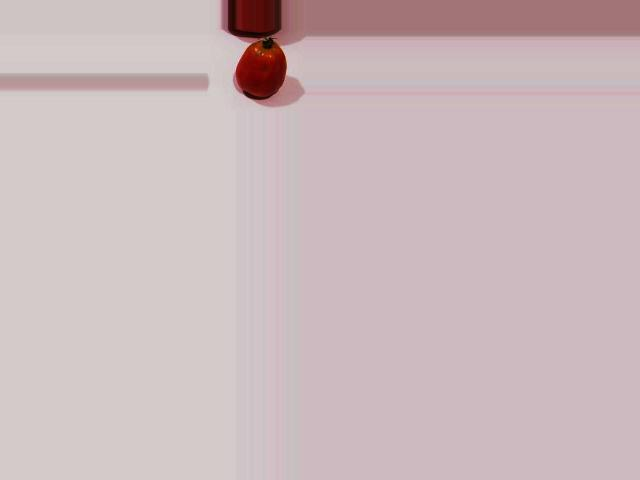tomato: (235, 40, 285, 96)
